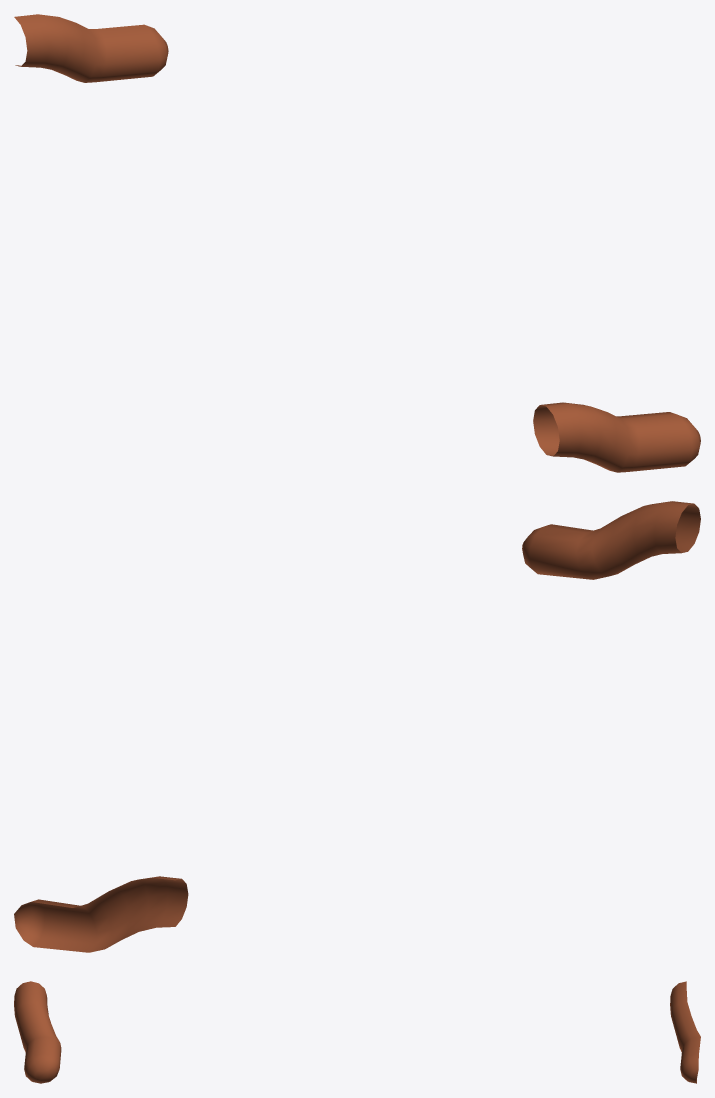
Rendered from SM_tileSol_EndSide_Corner_Bot.fbx.
3 renders of one model, top to bottom at view 1: azimuth 30°, elevation 25°; view 2: azimuth 150°, elevation 25°; view 3: azimuth 270°, elevation 25°, orthographic. The views are drawn at different scales.
Parts seen in each view (by area): view 1: SM_tileSol_EndSide_Corner_Bot; view 2: SM_tileSol_EndSide_Corner_Bot; view 3: SM_tileSol_EndSide_Corner_Bot.
Boxes of the visible parts, x1,y1,x2,y2 form: SM_tileSol_EndSide_Corner_Bot: [14, 14, 700, 472]; SM_tileSol_EndSide_Corner_Bot: [14, 501, 700, 952]; SM_tileSol_EndSide_Corner_Bot: [14, 981, 700, 1083].
Size of the model in its own units: 34.33 by 20.19 by 209.
